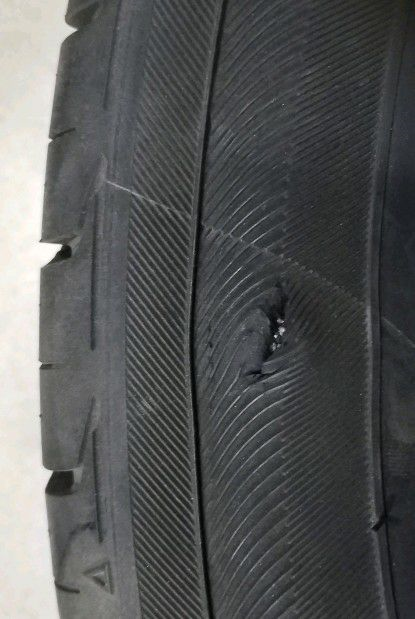cut: (250, 281, 288, 384)
